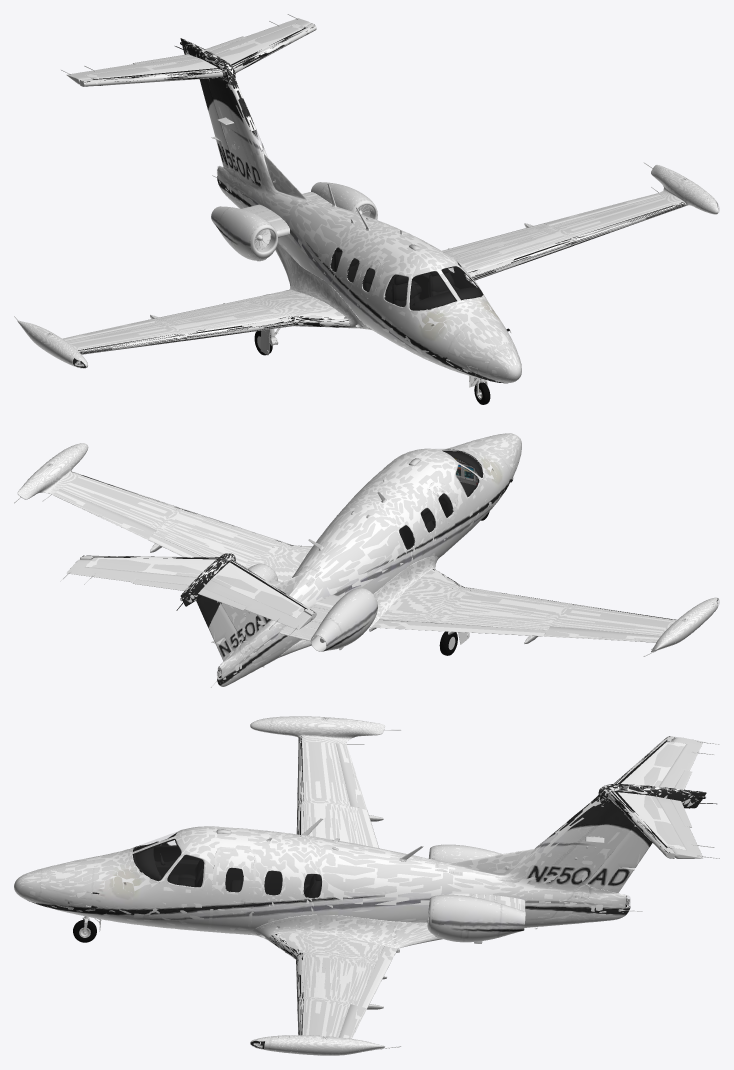
The model's file is pla-transformed.glb.
3 views of the same model, one above another, from view 1: azimuth 30°, elevation 25°; view 2: azimuth 150°, elevation 25°; view 3: azimuth 270°, elevation 25° (orthographic). The views are drawn at different scales.
Parts seen in each view (by area): view 1: Object_8, Object_10, Object_4; view 2: Object_8, Object_10, Object_4; view 3: Object_8, Object_10, Object_4.
Part boxes in pixels (left/top/right/bottom): Object_8: left=17, top=18, right=718, bottom=387; Object_10: left=14, top=14, right=717, bottom=399; Object_4: left=45, top=24, right=718, bottom=404; Object_8: left=17, top=433, right=718, bottom=686; Object_10: left=14, top=433, right=718, bottom=687; Object_4: left=45, top=449, right=718, bottom=679; Object_8: left=14, top=716, right=706, bottom=1055; Object_10: left=16, top=716, right=719, bottom=1054; Object_4: left=73, top=717, right=716, bottom=1048.
Bounding box in the file's own units: 11.6 × 2.94 × 10.56.
6 materials, 6 textured.
